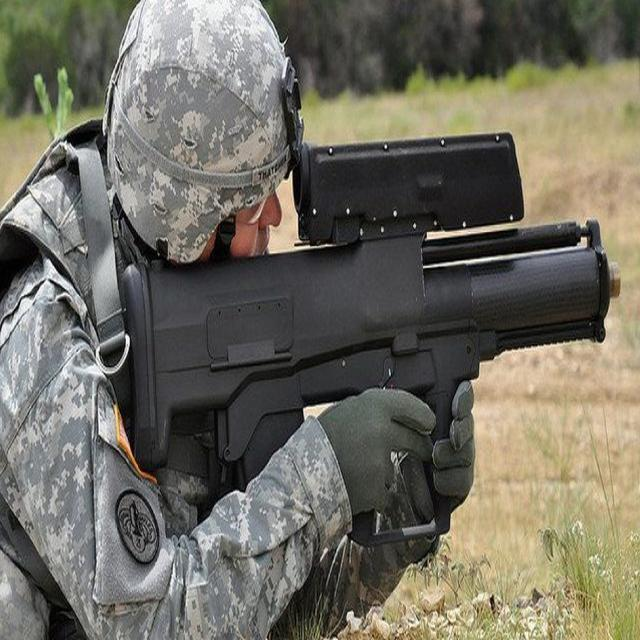rifle: (146, 205, 618, 517)
scope: (297, 137, 534, 227)
